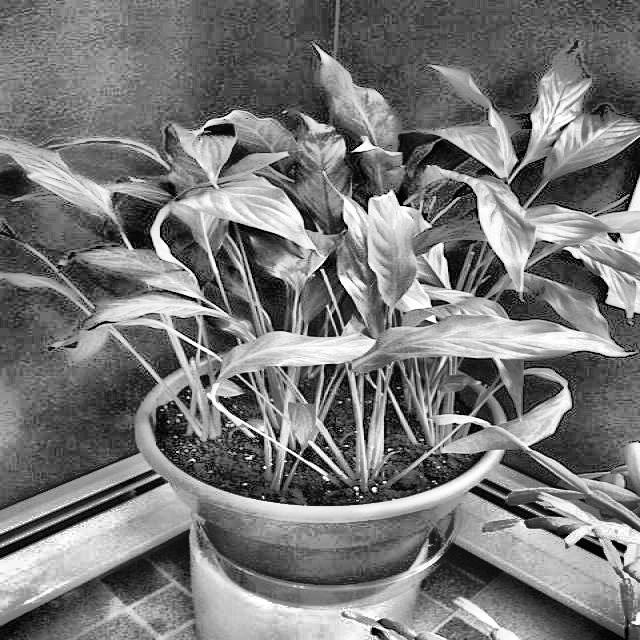plants: (23, 58, 520, 582), (179, 173, 325, 277), (396, 278, 445, 326)
